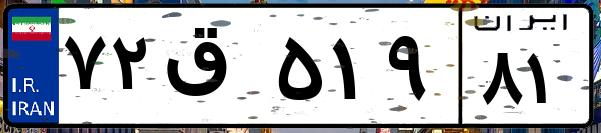1: (330, 28, 385, 110), (525, 38, 570, 115)
2: (110, 28, 158, 98)
5: (270, 28, 330, 110)
7: (57, 26, 110, 100)
8: (475, 38, 525, 113)
9: (385, 28, 445, 110)
ق: (158, 20, 270, 120)
